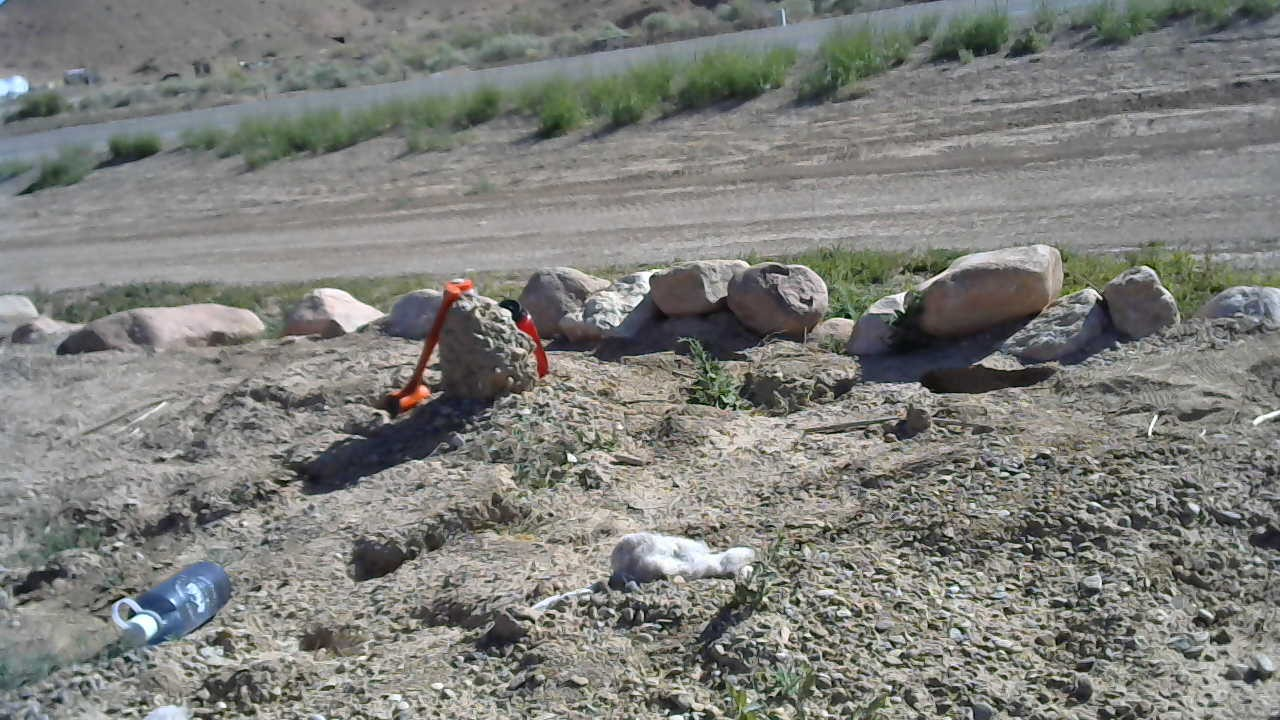bottle: (103, 560, 236, 648), (494, 293, 550, 379)
hammer: (379, 274, 474, 415)
